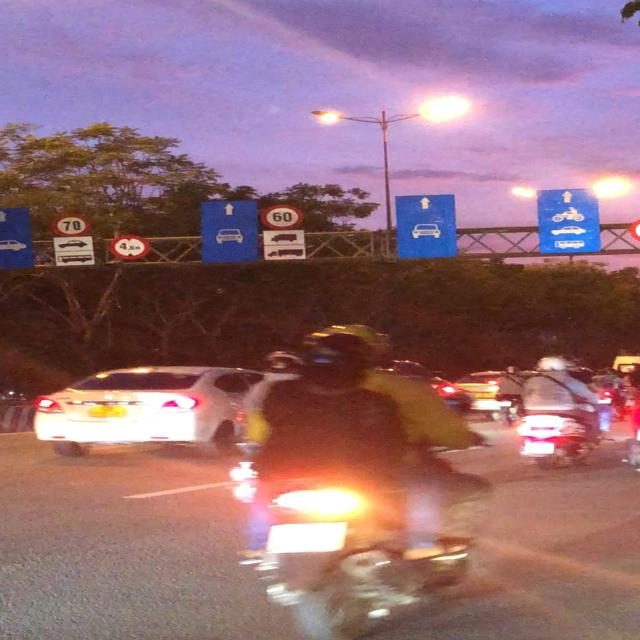Bien bao han che chieu cao: (108, 234, 149, 261)
Bien bao toc do toi da cho phep: (258, 201, 305, 230), (46, 213, 96, 237)
